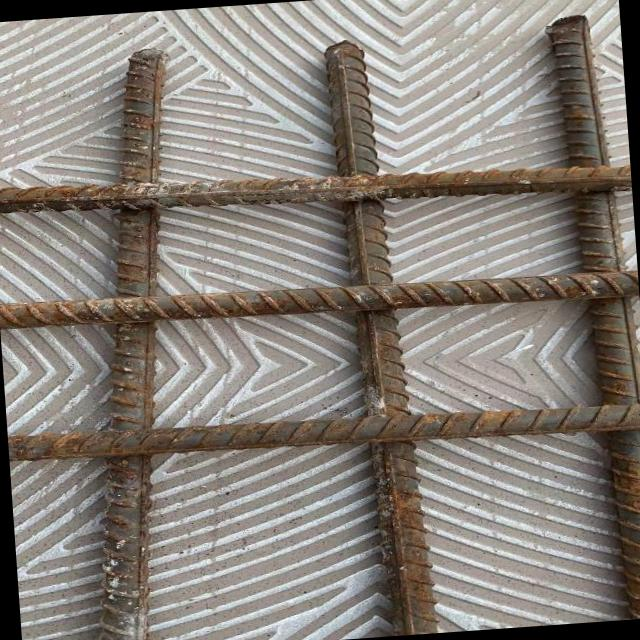ribbed bar: (53, 47, 203, 640), (322, 37, 440, 637), (545, 12, 640, 621), (0, 144, 631, 232), (7, 391, 640, 473), (0, 258, 638, 339)
